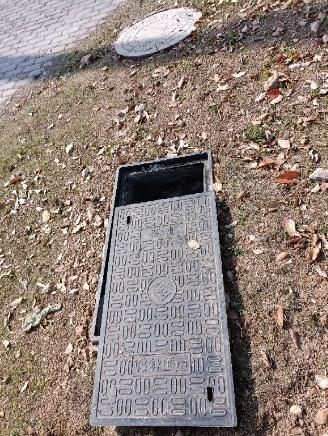wellcover: (88, 152, 235, 430), (106, 3, 208, 57)
